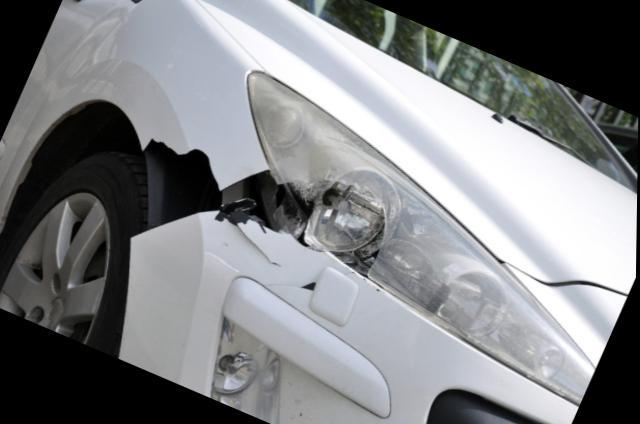crack: (230, 213, 284, 267)
dislocated part: (130, 138, 315, 247)
lamp broken: (246, 71, 597, 407)
